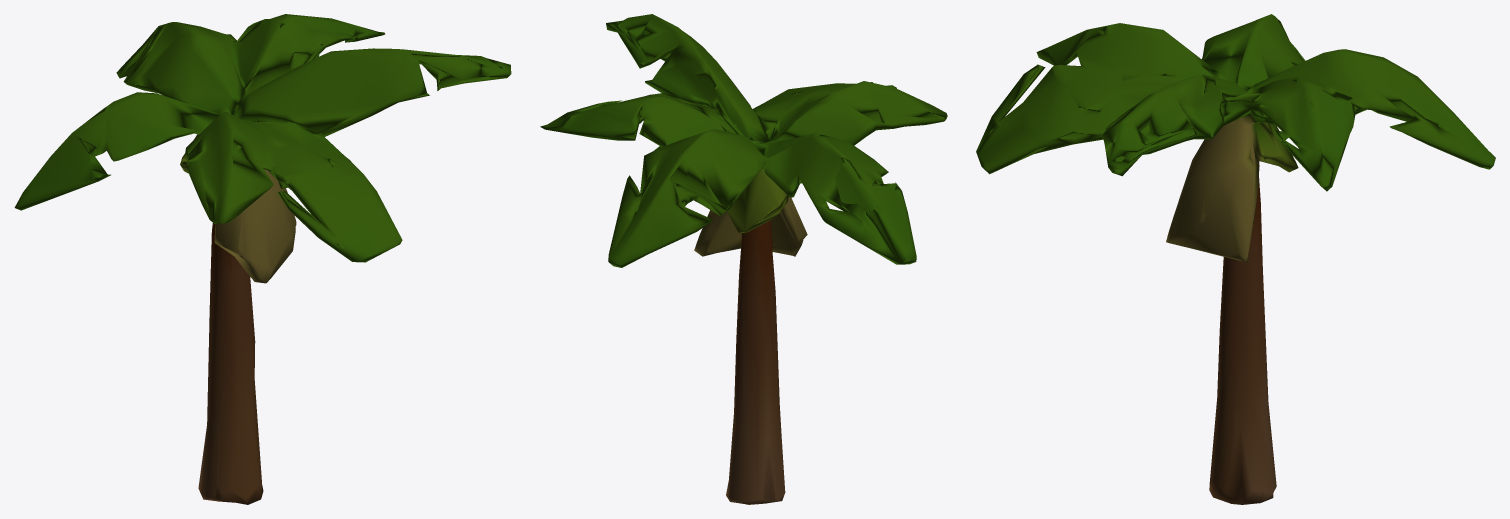
Rendered from gen3d-tropical-lod0.glb.
3 views of the same model, side by side, from view 1: azimuth 30°, elevation 25°; view 2: azimuth 150°, elevation 25°; view 3: azimuth 270°, elevation 25° (orthographic). The views are drawn at different scales.
Parts seen in each view (by area): view 1: part_0; view 2: part_0; view 3: part_0.
Part boxes in pixels (x1,y1,x2,y2): part_0: (14,14,511,504); part_0: (540,14,947,504); part_0: (976,14,1495,504).
Size of the model in its own units: 0.9793 by 0.9992 by 1.02.
